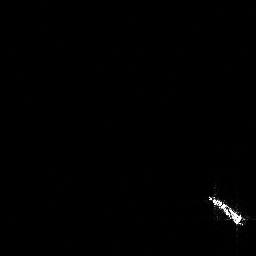ship: (205, 192, 248, 231)
